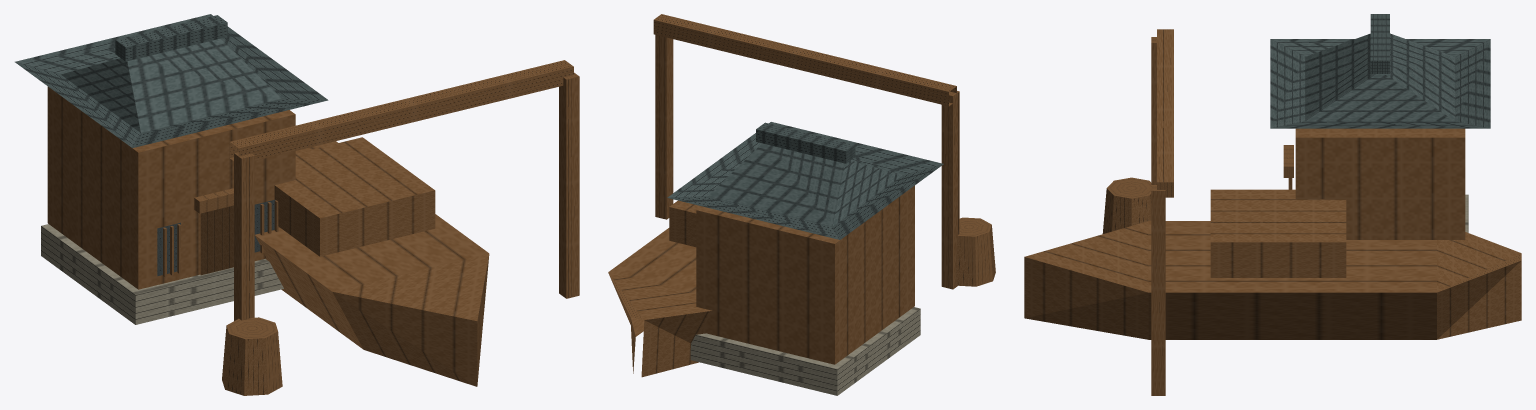
Rendered from domestic-SHIPYARD-1-lod1.glb.
3 renders of one model, left to right at view 1: azimuth 30°, elevation 25°; view 2: azimuth 150°, elevation 25°; view 3: azimuth 270°, elevation 25°, orthographic. The views are drawn at different scales.
Bounding box in the file's own units: 0.7325 × 0.446 × 0.88.
1 material, 1 textured.
